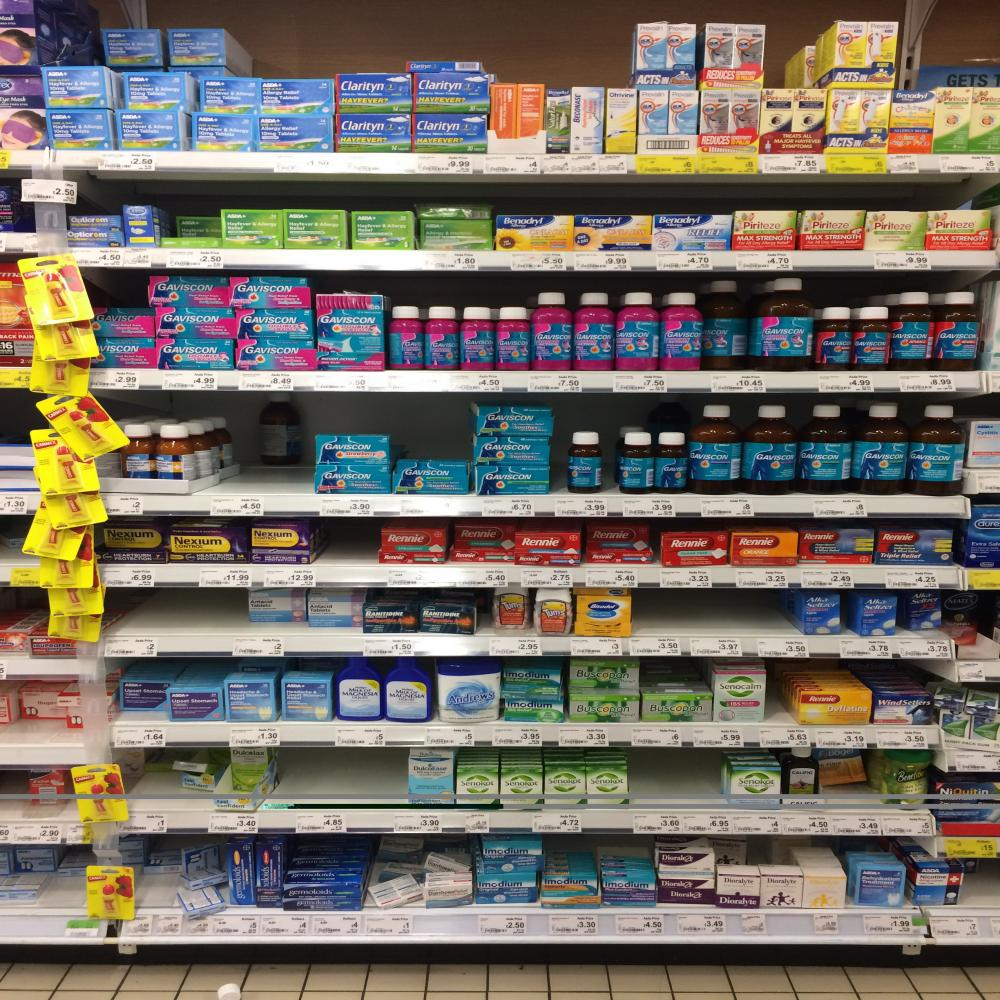shelf: (0, 148, 1000, 178), (0, 916, 1000, 945), (0, 564, 1000, 591), (0, 371, 1000, 395), (0, 489, 968, 513), (55, 244, 1000, 268), (95, 633, 951, 659), (106, 810, 939, 834), (101, 726, 944, 747), (0, 740, 100, 765), (0, 822, 100, 846), (0, 652, 96, 677), (937, 834, 1000, 859), (942, 746, 1000, 772), (0, 230, 58, 252), (954, 662, 1000, 682), (971, 469, 1000, 495)
